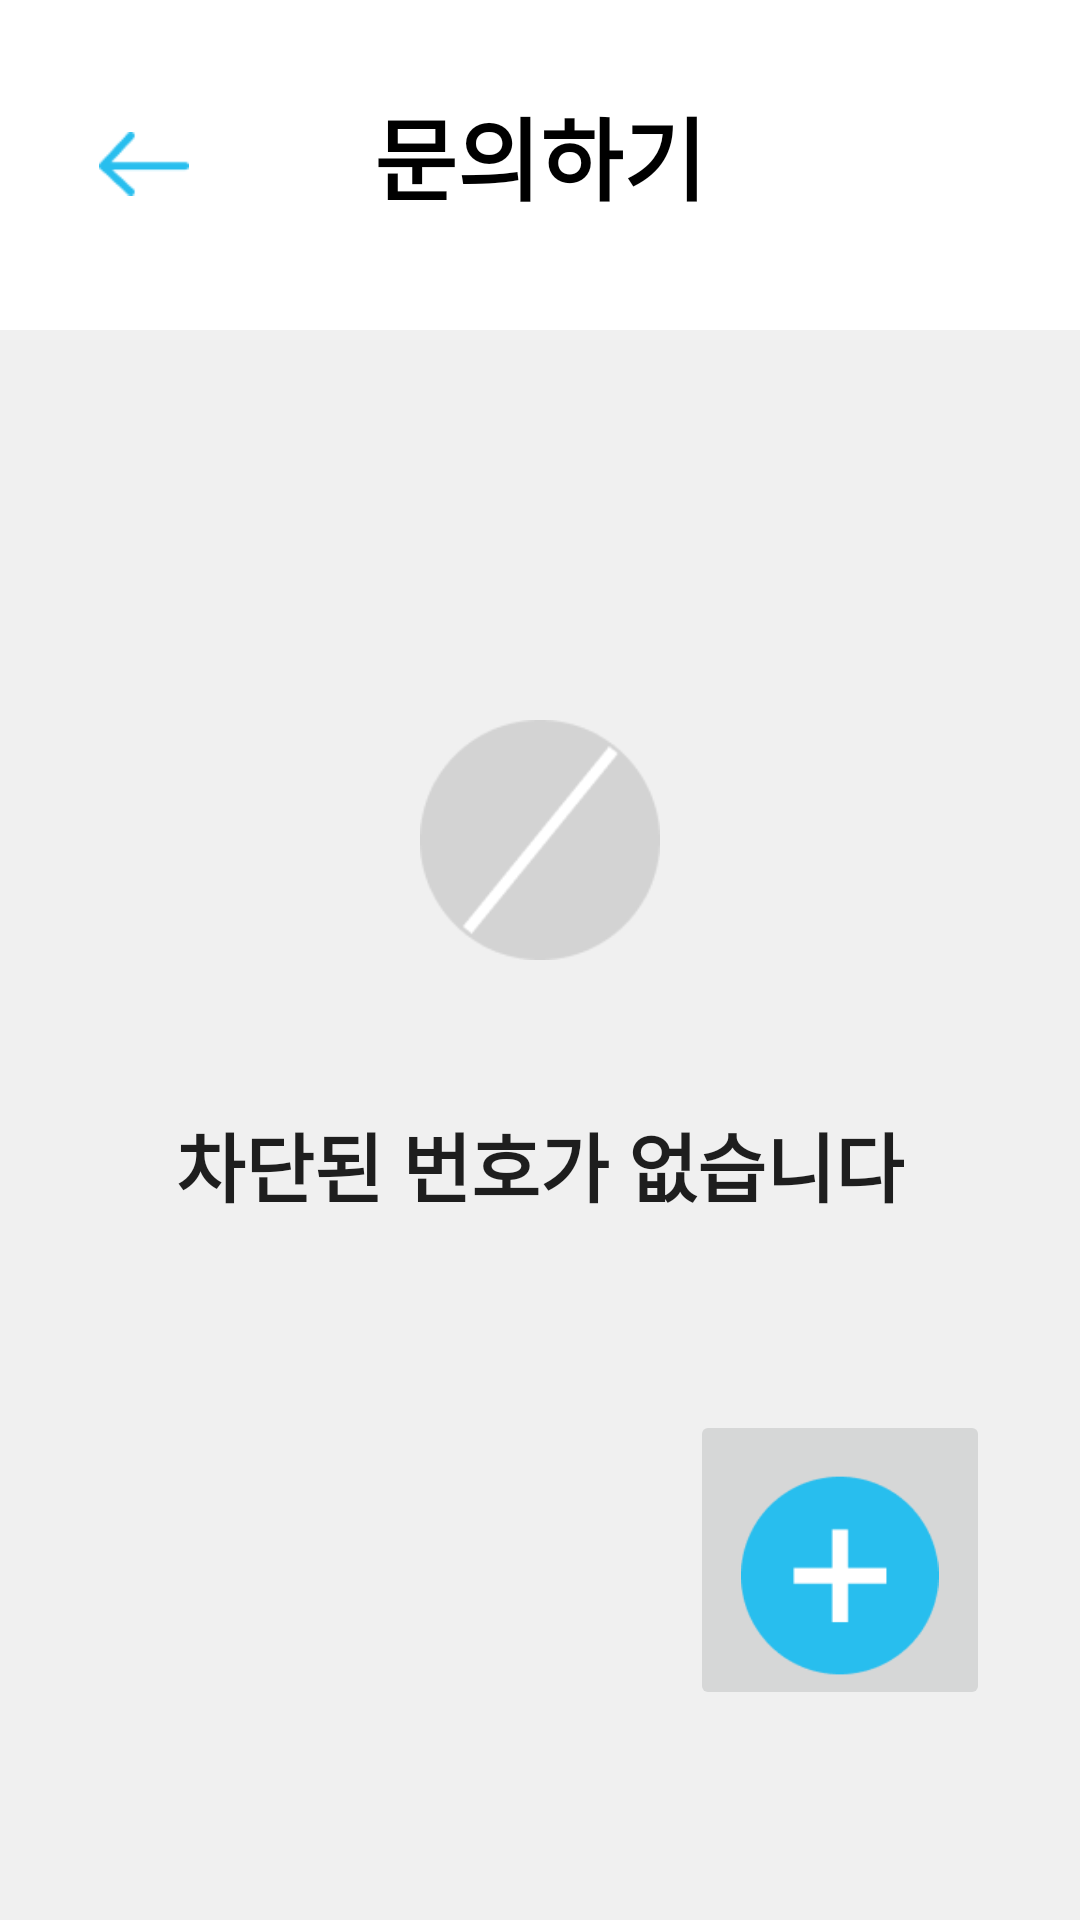

Point at icon controls on the screen. Image size 1080px x 1920px, points as [x,y].
backbtn: [144,164]
nohistory: [540,840]
plusbtn: [840,1560]
